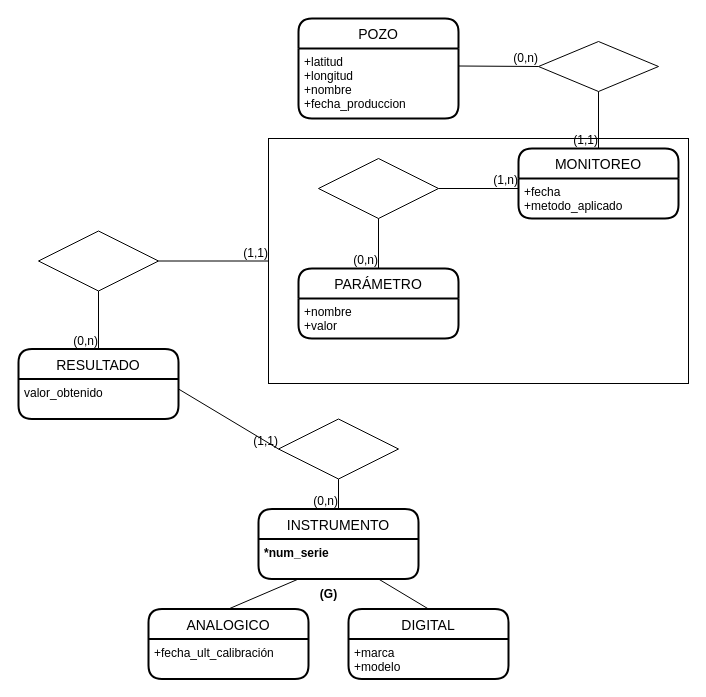
The diagram is 706 pixels wide and 697 high, and some of its shapes have lost their labels. The centre of each missing label's shape, as x and y in pixels:
se obtiene: point 98,260
se utiliza: point 338,448
se_miden: point 378,188
se_realiza: point 598,66
